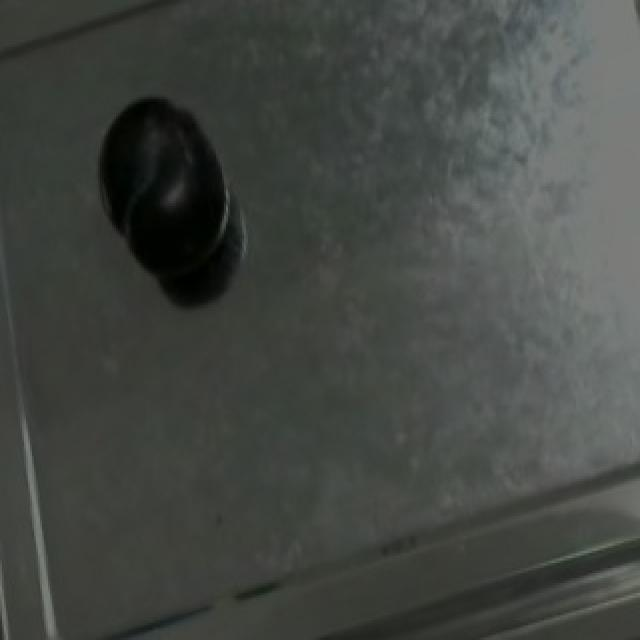Fruit: (90, 84, 236, 296)
